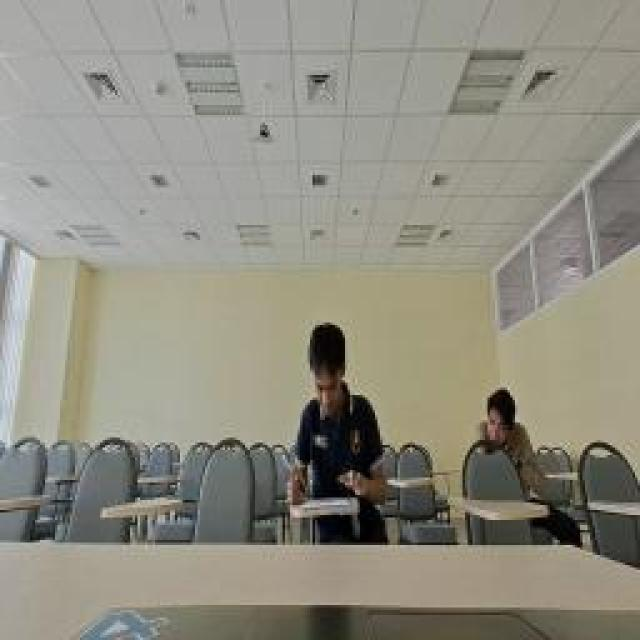study: (282, 322, 388, 508), (472, 378, 548, 500)
